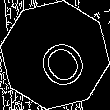O_NW: (22, 22, 88, 88)
